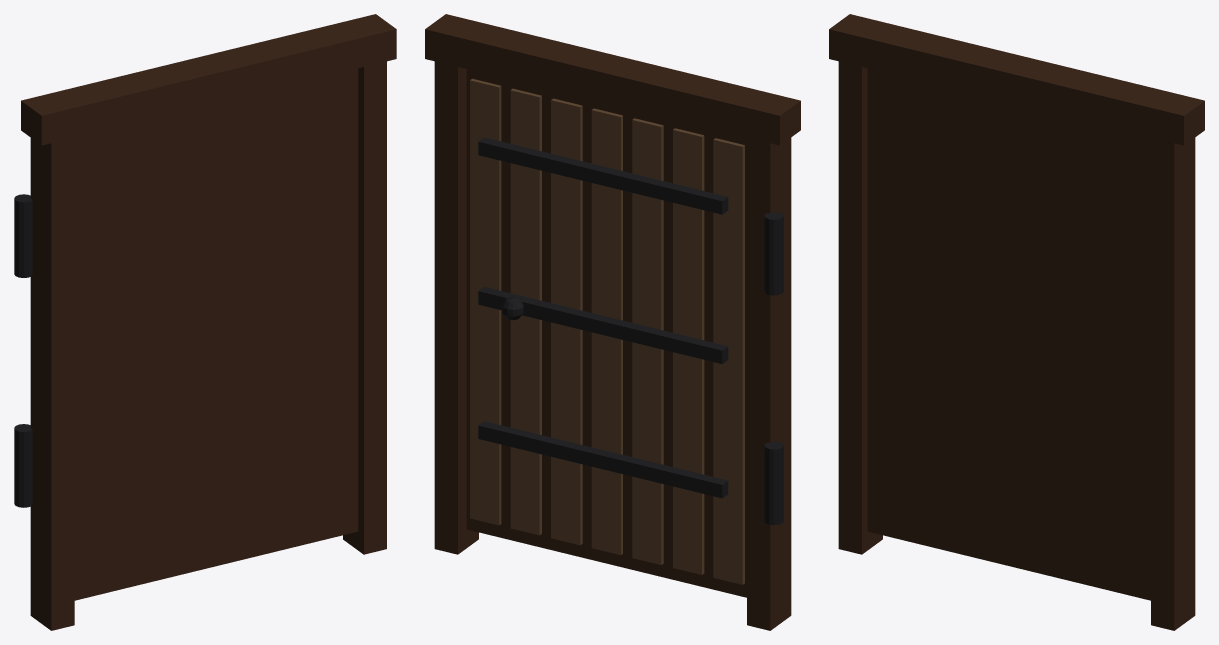
The model's file is GalakasMidCity_DOOR_WoodDouble_Shopfront_01.obj.
The picture shows the model from 3 angles, left to right: view 1: azimuth 30°, elevation 25°; view 2: azimuth 150°, elevation 25°; view 3: azimuth 330°, elevation 25°; orthographic projection.
Parts seen in each view (by area): view 1: detailed_door_slab, detailed_door_frame_l, detailed_door_lintel, detailed_door_frame_r, detailed_door_hinge_pin_0, detailed_door_hinge_pin_1; view 2: detailed_door_slab, detailed_door_frame_l, detailed_door_lintel, detailed_door_frame_r, detailed_door_plank_0, detailed_door_plank_6, detailed_door_plank_4, detailed_door_plank_2, detailed_door_plank_1, detailed_door_plank_3, detailed_door_plank_5, detailed_door_band_2 (+4 smaller); view 3: detailed_door_slab, detailed_door_frame_r, detailed_door_lintel, detailed_door_frame_l.
Boxes of the visible parts, bbox=[...] form: detailed_door_slab: bbox=[74, 68, 358, 600]; detailed_door_frame_l: bbox=[30, 116, 74, 630]; detailed_door_lintel: bbox=[21, 14, 396, 145]; detailed_door_frame_r: bbox=[343, 44, 386, 554]; detailed_door_hinge_pin_0: bbox=[14, 429, 32, 507]; detailed_door_hinge_pin_1: bbox=[14, 199, 32, 277]; detailed_door_slab: bbox=[466, 69, 746, 597]; detailed_door_frame_l: bbox=[747, 116, 791, 630]; detailed_door_lintel: bbox=[425, 14, 800, 145]; detailed_door_frame_r: bbox=[434, 40, 478, 554]; detailed_door_plank_0: bbox=[713, 138, 744, 584]; detailed_door_plank_6: bbox=[470, 78, 501, 525]; detailed_door_plank_4: bbox=[551, 98, 582, 545]; detailed_door_plank_2: bbox=[632, 118, 663, 564]; detailed_door_plank_1: bbox=[673, 128, 704, 574]; detailed_door_plank_3: bbox=[591, 108, 622, 555]; detailed_door_plank_5: bbox=[510, 88, 541, 535]; detailed_door_band_2: bbox=[478, 137, 728, 214]; detailed_door_slab: bbox=[867, 68, 1150, 600]; detailed_door_frame_r: bbox=[1151, 116, 1195, 630]; detailed_door_lintel: bbox=[829, 14, 1204, 145]; detailed_door_frame_l: bbox=[838, 40, 882, 554].
Size of the model in its own units: 2.78 by 3.83 by 0.4161.
